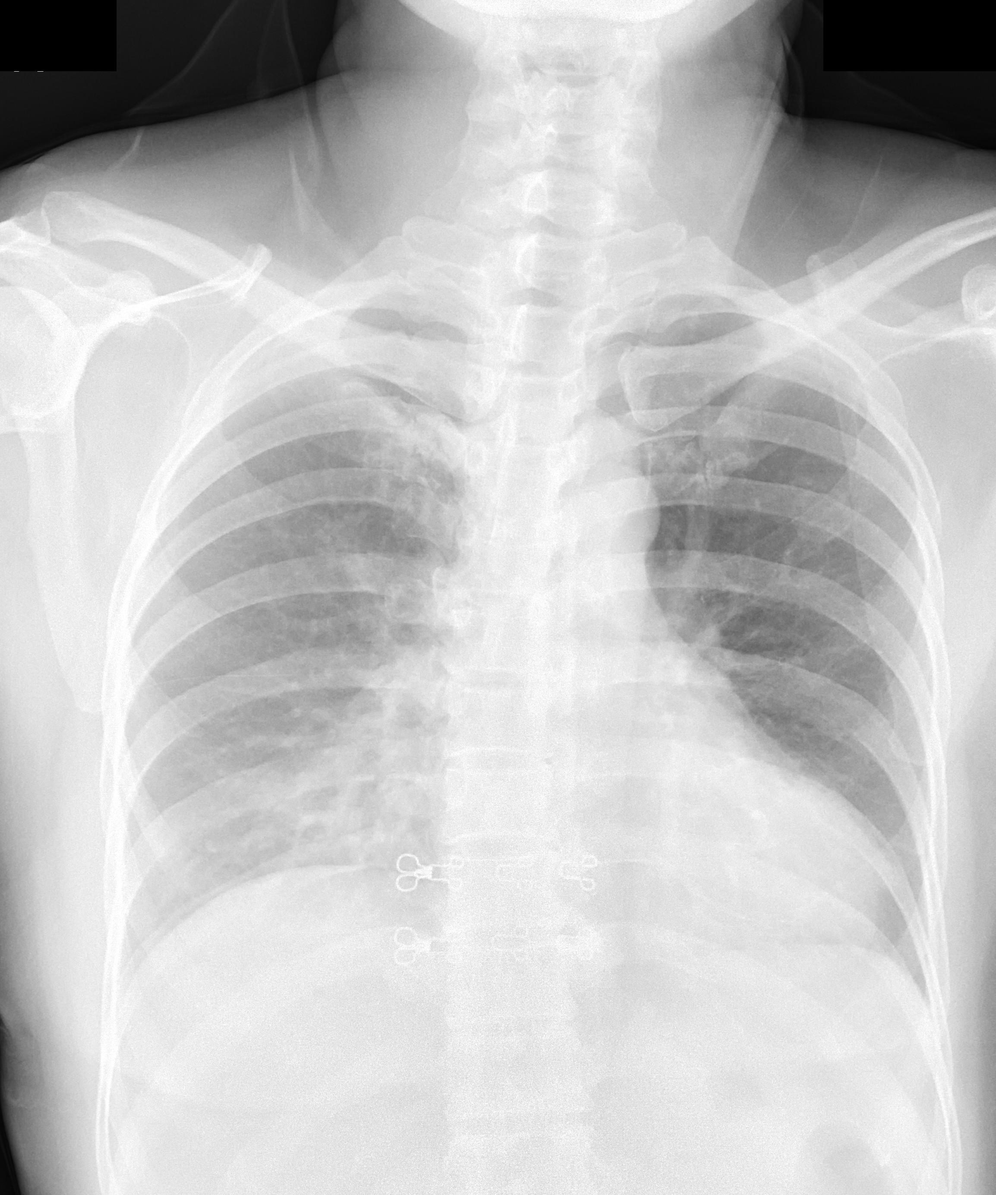Aortic enlargement: (531, 461, 661, 571)
Cardiomegaly: (425, 764, 877, 954)
